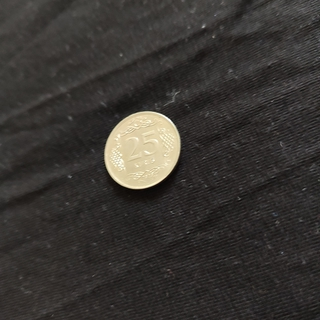25KURUS: (102, 109, 182, 191)
